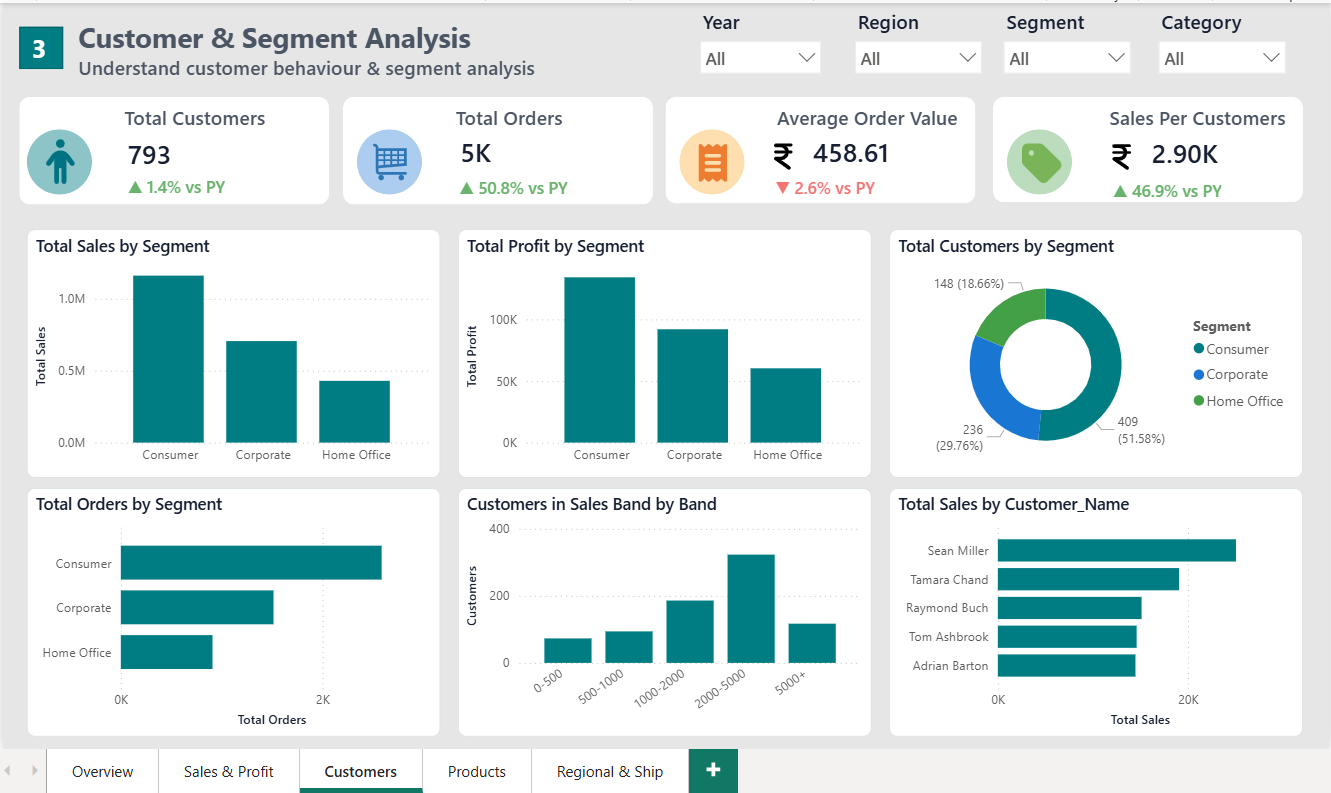

The dashboard page shown, as its layout file describes it:
{"tool":"powerbi","page":{"name":"Customers","canvas":[1280,720],"ordinal":2},"visuals":[{"type":"textbox","box":[67.2,9.6,572.2,81],"z":0},{"type":"slicer","fields":{"Values":["Calendar.Year"]},"box":[662.8,0,137.2,76.8],"z":1000},{"type":"slicer","fields":{"Values":["Fact_Sales.Region"]},"box":[812.4,0,142.7,76.8],"z":2000},{"type":"slicer","fields":{"Values":["Fact_Sales.Category"]},"box":[1104.6,0,142.7,76.8],"z":3000},{"type":"slicer","fields":{"Values":["Fact_Sales.Segment"]},"box":[955.1,0,142.7,76.8],"z":4000},{"type":"shape","box":[15.1,23.3,42.5,41.2],"z":5000},{"type":"textbox","box":[23.3,23.3,43.9,53.5],"z":6000},{"type":"shape","box":[15.1,90.6,299.1,104],"z":7000},{"type":"shape","box":[328,90.6,299.1,104],"z":8000},{"type":"shape","box":[639.5,90.6,299.1,102.9],"z":9000},{"type":"shape","box":[955.1,90.6,299.1,101.8],"z":10000},{"type":"shape","box":[23.3,122.1,63.1,63.1],"z":11000},{"type":"shape","box":[341.7,122.1,63.1,63.1],"z":12000},{"type":"shape","box":[968.8,122.1,63.1,63.1],"z":13000},{"type":"shape","box":[653.2,122.1,63.1,63.1],"z":14000},{"type":"image","box":[28.8,129,52.1,48],"z":15000},{"type":"image","box":[974.3,127.6,53.5,52.1],"z":16000},{"type":"image","box":[354,129,42.5,49.4],"z":17000},{"type":"image","box":[662.8,129,45.3,50.8],"z":18000},{"type":"textbox","box":[112.5,93.3,155.1,36.5],"z":19000},{"type":"textbox","box":[432.2,93.3,175.6,41.2],"z":20000},{"type":"textbox","box":[742.4,93.3,196.2,37],"z":21000},{"type":"textbox","box":[1063.5,93.3,190.7,37],"z":22000},{"type":"cardVisual","fields":{"Data":["Fact_Sales.Total Customers"]},"box":[91.7,110.9,160.5,67.2],"z":23000},{"type":"cardVisual","fields":{"Data":["Fact_Sales.Total Orders"]},"box":[412.2,109,160.5,67.2],"z":24000},{"type":"cardVisual","fields":{"Data":["Fact_Sales.Average Order Value"]},"box":[753.3,108.4,160.5,67.2],"z":25000},{"type":"cardVisual","fields":{"Data":["Fact_Sales.Sales per Customer"]},"box":[1079.9,109.8,160.5,67.2],"z":26000},{"type":"image","box":[731.4,130.4,43.9,35.7],"z":27000},{"type":"image","box":[1062.1,130.4,35.7,37],"z":28000},{"type":"cardVisual","fields":{"Data":["Fact_Sales.Customers YoY Display"]},"box":[91.9,145.5,156.4,59],"z":29000},{"type":"cardVisual","fields":{"Data":["Fact_Sales.Orders YoY Display"]},"box":[411.7,146.8,172.9,59],"z":30000},{"type":"cardVisual","fields":{"Data":["Fact_Sales.AOV YoY Display"]},"box":[716.3,146.8,156.4,59],"z":31000},{"type":"cardVisual","fields":{"Data":["Fact_Sales.Sales YoY Display"]},"box":[1042.9,149.6,166,59],"z":32000},{"type":"columnChart","fields":{"Y":["Fact_Sales.Total Sales"],"Category":["Fact_Sales.Segment"]},"box":[23.3,218.2,399.3,240.1],"z":33000},{"type":"columnChart","fields":{"Y":["Fact_Sales.Total Profit"],"Category":["Fact_Sales.Segment"]},"box":[439.1,218.2,399.3,240.1],"z":34000},{"type":"donutChart","fields":{"Category":["Fact_Sales.Segment"],"Y":["Fact_Sales.Total Customers"]},"box":[854.9,218.2,399.3,240.1],"z":35000},{"type":"barChart","fields":{"Y":["Fact_Sales.Total Orders"],"Category":["Fact_Sales.Segment"]},"box":[23,468,399,240],"z":36000},{"type":"barChart","fields":{"Y":["Fact_Sales.Total Sales"],"Category":["Fact_Sales.Customer_Name"]},"box":[854.9,467.9,399.3,240.1],"z":37000},{"type":"clusteredColumnChart","fields":{"Category":["Customer Sales Band.Band"],"Y":["Customer Sales Band.Customers in Sales Band"]},"box":[439,468,399,240],"z":38000}]}

Visuals, with their boxes on the page's 1280x720 design canvas (x1, y1, x2, y2). These are canvas units, not pixel positions in the 1331x793 screenshot, which may show the page scaled, cropped or inside an application window:
textbox: 67,10,639,91
slicer - Calendar.Year: 663,0,800,77
slicer - Fact_Sales.Region: 812,0,955,77
slicer - Fact_Sales.Category: 1105,0,1247,77
slicer - Fact_Sales.Segment: 955,0,1098,77
shape: 15,23,58,64
textbox: 23,23,67,77
shape: 15,91,314,195
shape: 328,91,627,195
shape: 640,91,939,194
shape: 955,91,1254,192
shape: 23,122,86,185
shape: 342,122,405,185
shape: 969,122,1032,185
shape: 653,122,716,185
image: 29,129,81,177
image: 974,128,1028,180
image: 354,129,396,178
image: 663,129,708,180
textbox: 112,93,268,130
textbox: 432,93,608,134
textbox: 742,93,939,130
textbox: 1064,93,1254,130
cardVisual - Fact_Sales.Total Customers: 92,111,252,178
cardVisual - Fact_Sales.Total Orders: 412,109,573,176
cardVisual - Fact_Sales.Average Order Value: 753,108,914,176
cardVisual - Fact_Sales.Sales per Customer: 1080,110,1240,177
image: 731,130,775,166
image: 1062,130,1098,167
cardVisual - Fact_Sales.Customers YoY Display: 92,146,248,204
cardVisual - Fact_Sales.Orders YoY Display: 412,147,585,206
cardVisual - Fact_Sales.AOV YoY Display: 716,147,873,206
cardVisual - Fact_Sales.Sales YoY Display: 1043,150,1209,209
columnChart - Fact_Sales.Total Sales x Fact_Sales.Segment: 23,218,423,458
columnChart - Fact_Sales.Total Profit x Fact_Sales.Segment: 439,218,838,458
donutChart - Fact_Sales.Segment x Fact_Sales.Total Customers: 855,218,1254,458
barChart - Fact_Sales.Total Orders x Fact_Sales.Segment: 23,468,422,708
barChart - Fact_Sales.Total Sales x Fact_Sales.Customer_Name: 855,468,1254,708
clusteredColumnChart - Customer Sales Band.Band x Customer Sales Band.Customers in Sales Band: 439,468,838,708
